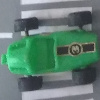verde_este: (2, 12, 98, 91)
